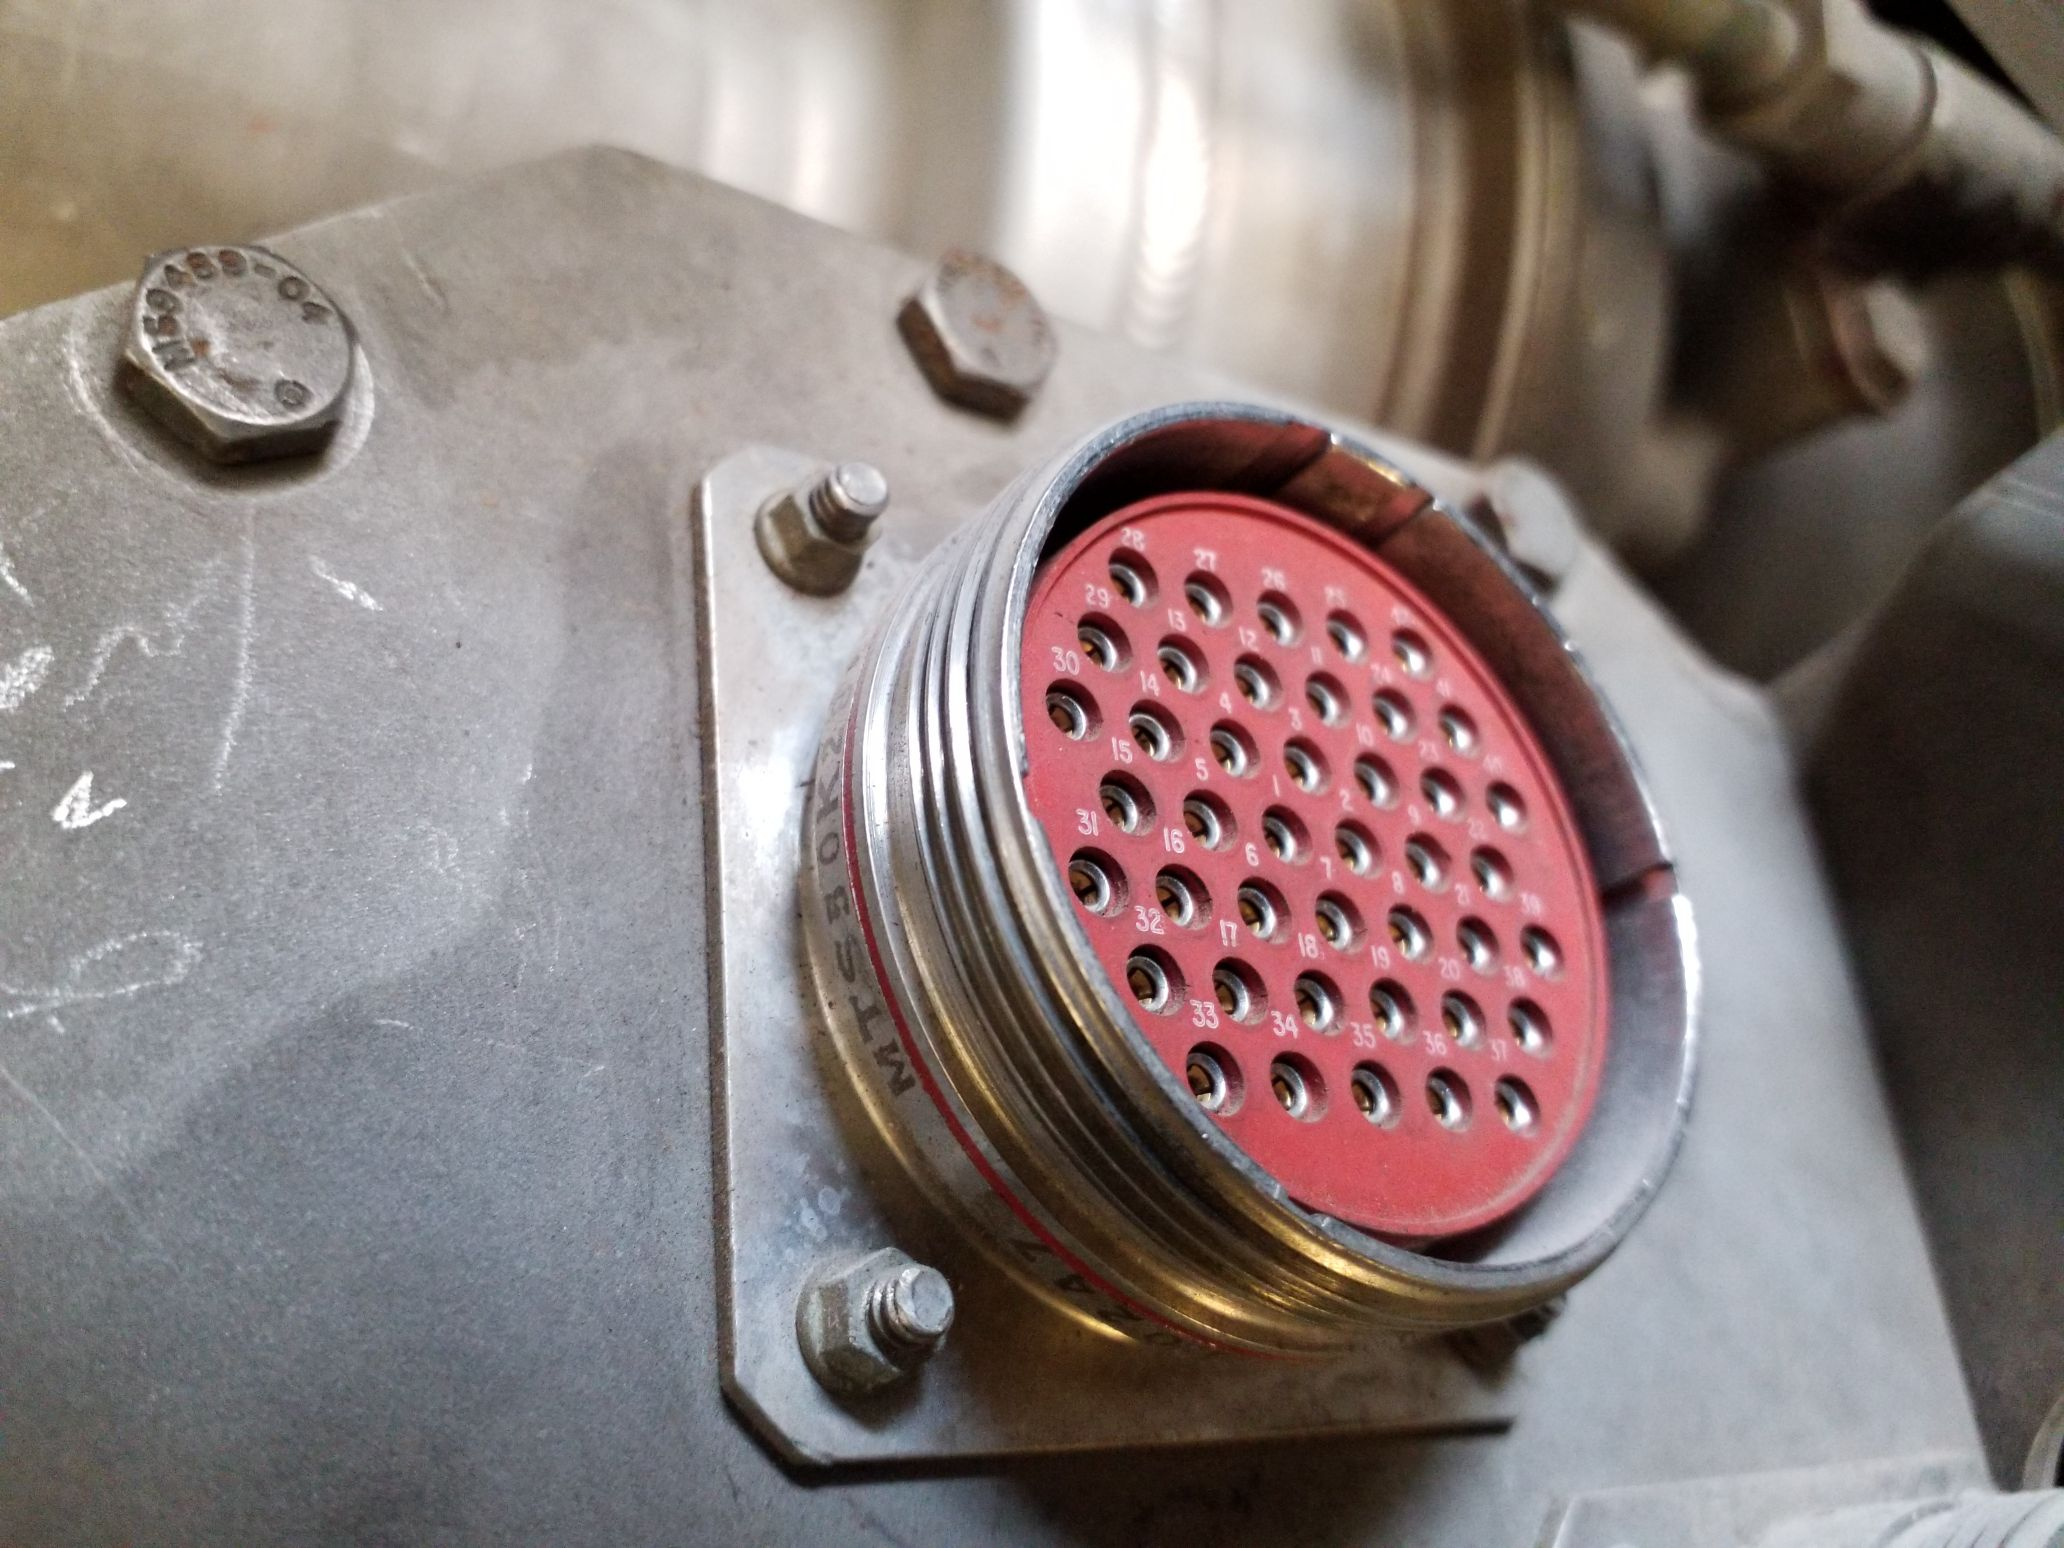inletnumbers: (723, 385, 1721, 1397)
